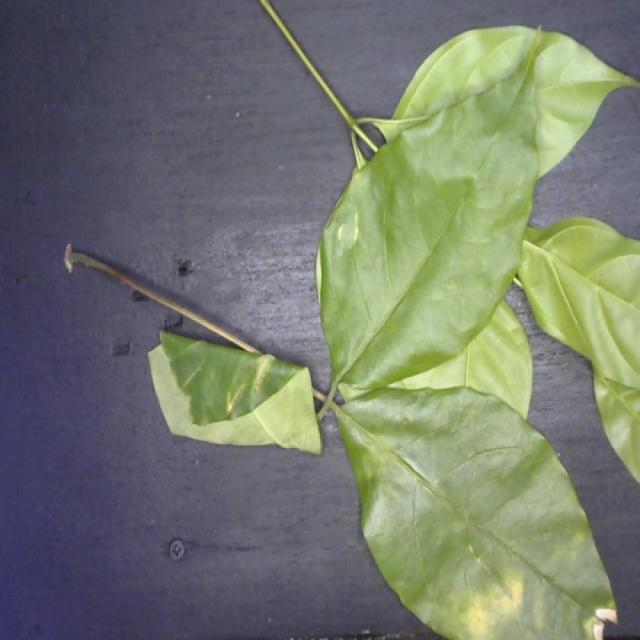biodegradable: (147, 23, 640, 640)
